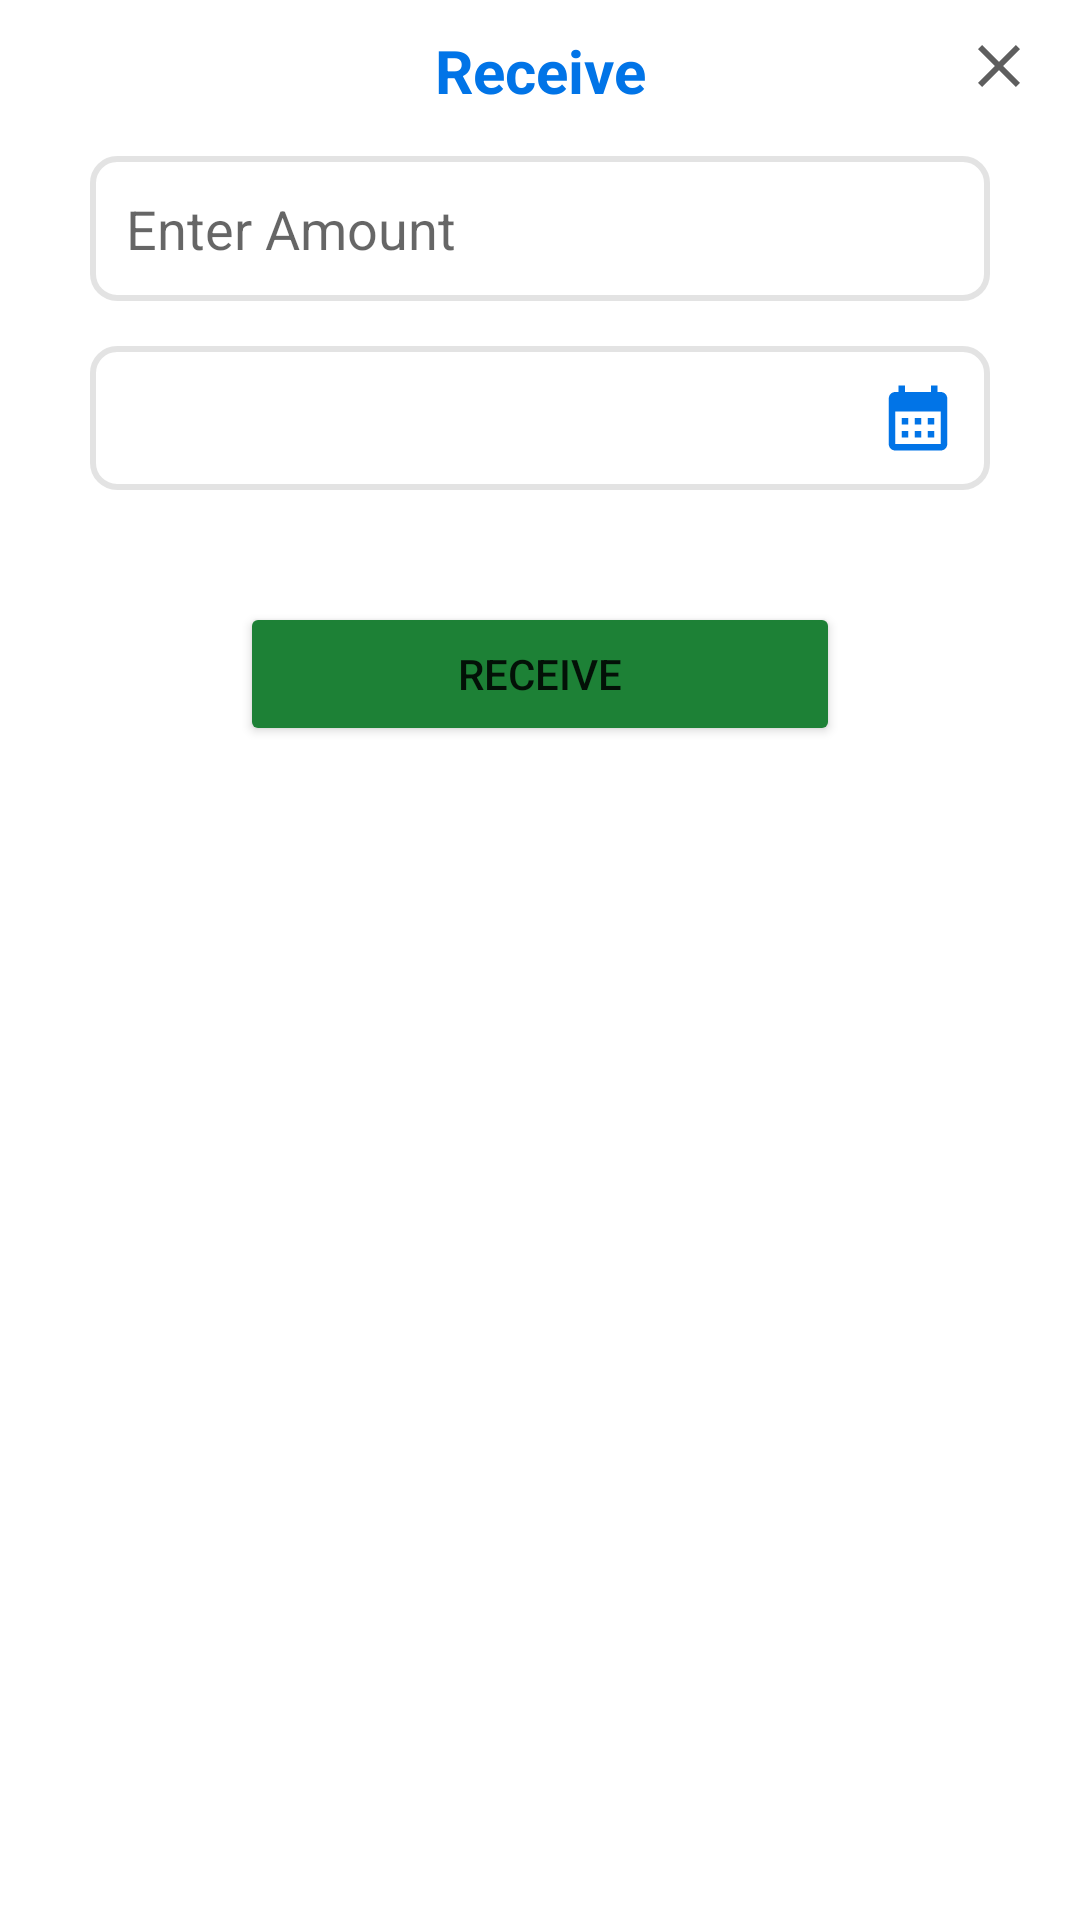

Point at icon controls on the screen. Image size 1080px×1920px, points as (x,y).
close: (999,66)
